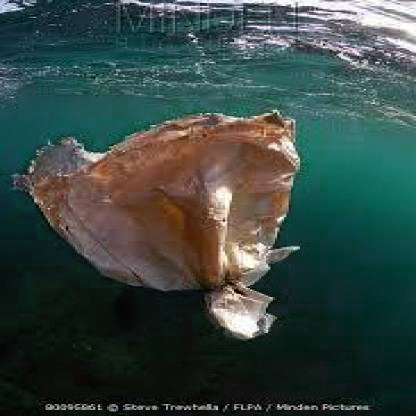pbag: (9, 107, 318, 338)
